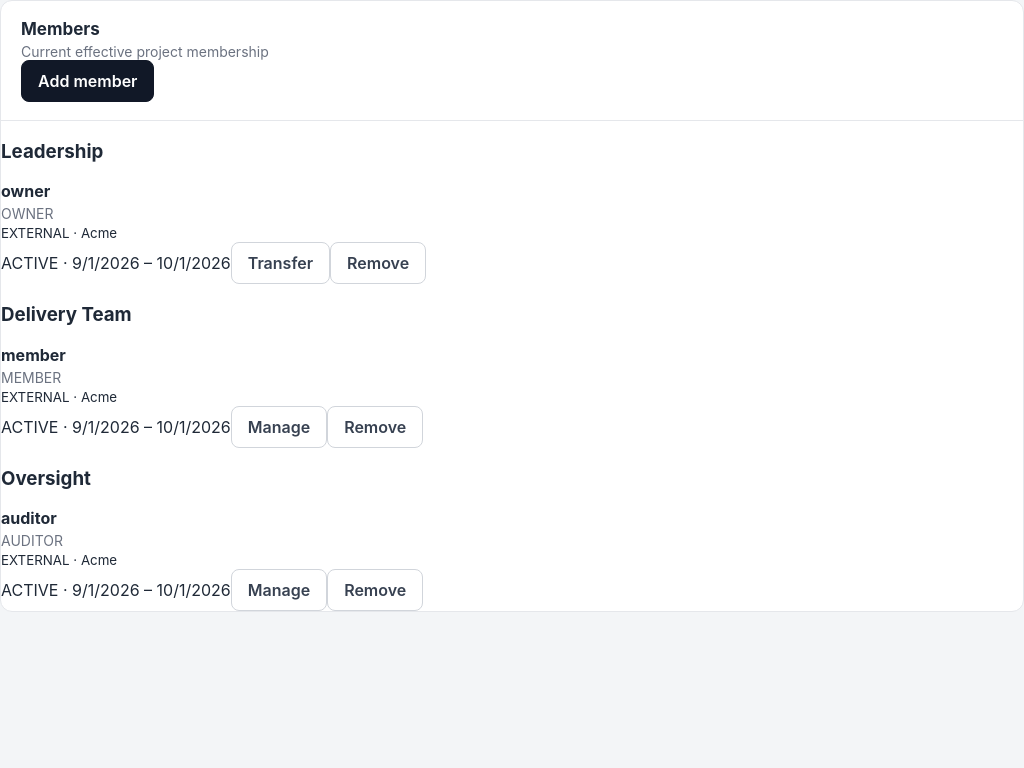
Scenario: VS002-08 Members › surfaces a submission-time PROJECT_ACCESS_DENIED without fallback mutation
Click the button "Manage" below "Delivery Team": (279, 427) [231, 406, 327, 448]
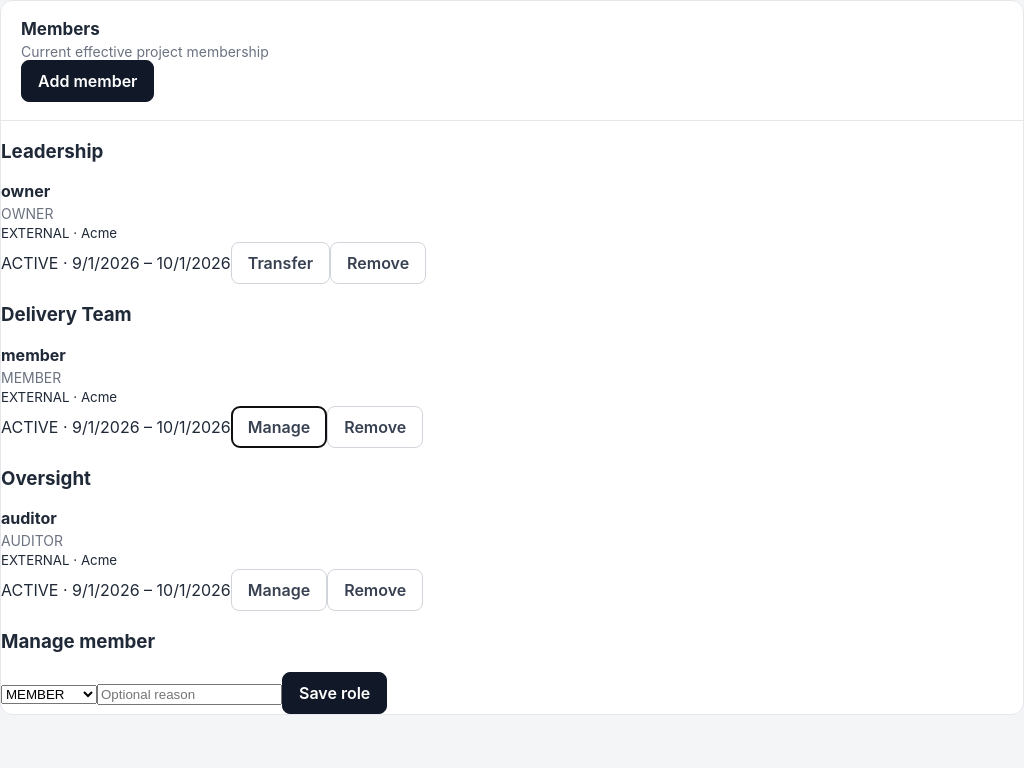
Click the button "Save role": (335, 693) [282, 672, 387, 714]
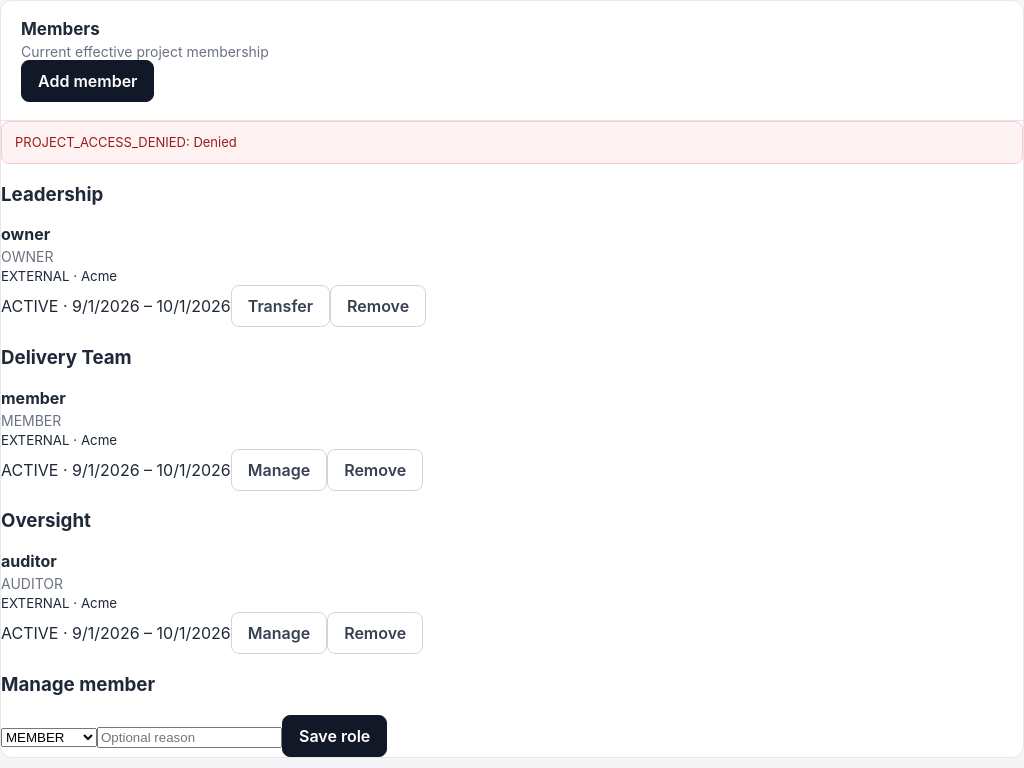
Expected: the text "PROJECT_ACCESS_DENIED: Denied" is shown, [1, 121, 1023, 164]
